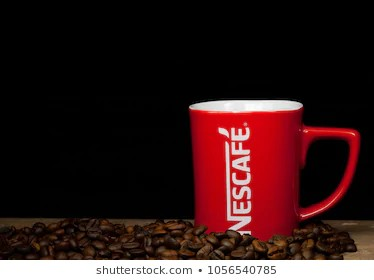nescafe-mug: (186, 91, 362, 240)
